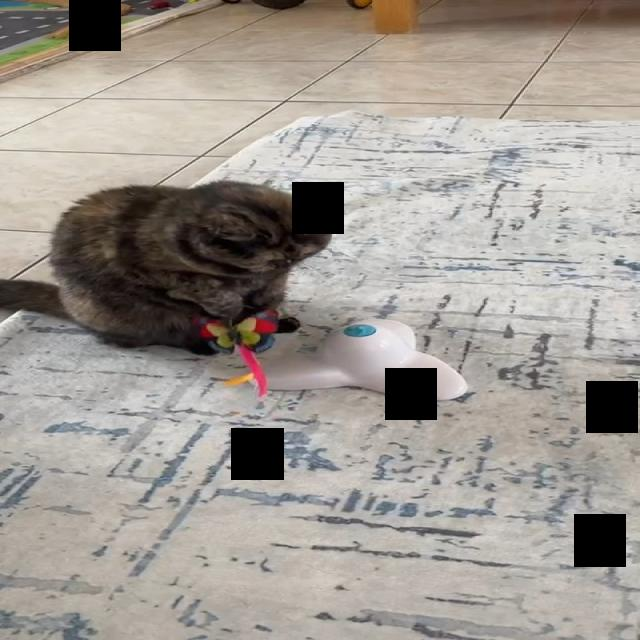authorized: (0, 178, 337, 355)
